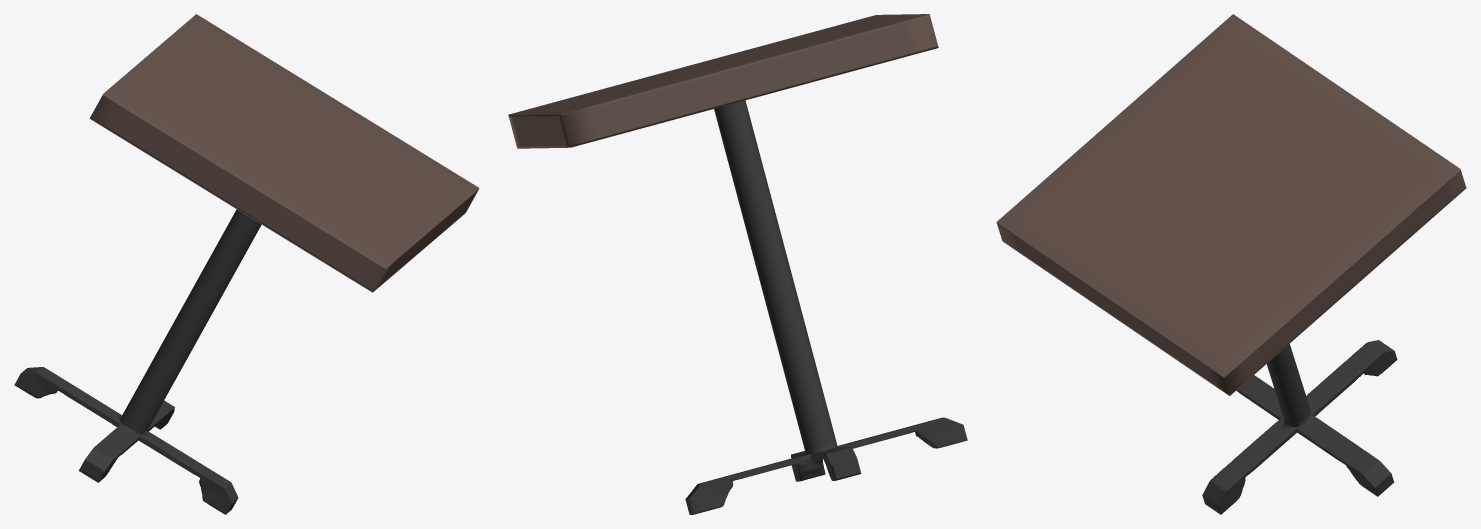
The model's file is Bar Table.fbx.
3 renders of one model, left to right at view 1: azimuth 30°, elevation 25°; view 2: azimuth 150°, elevation 25°; view 3: azimuth 270°, elevation 25°, orthographic. The views are drawn at different scales.
Parts seen in each view (by area): view 1: Cylinder_001.pm; view 2: Cylinder_001.pm; view 3: Cylinder_001.pm.
Part boxes in pixels (x1,y1,x2,y2): Cylinder_001.pm: (14,14,479,514); Cylinder_001.pm: (508,14,967,514); Cylinder_001.pm: (996,14,1466,514).
Bounding box in the file's own units: 4910 × 5170 × 4992.
Materials: 1 (1 with a texture image).
